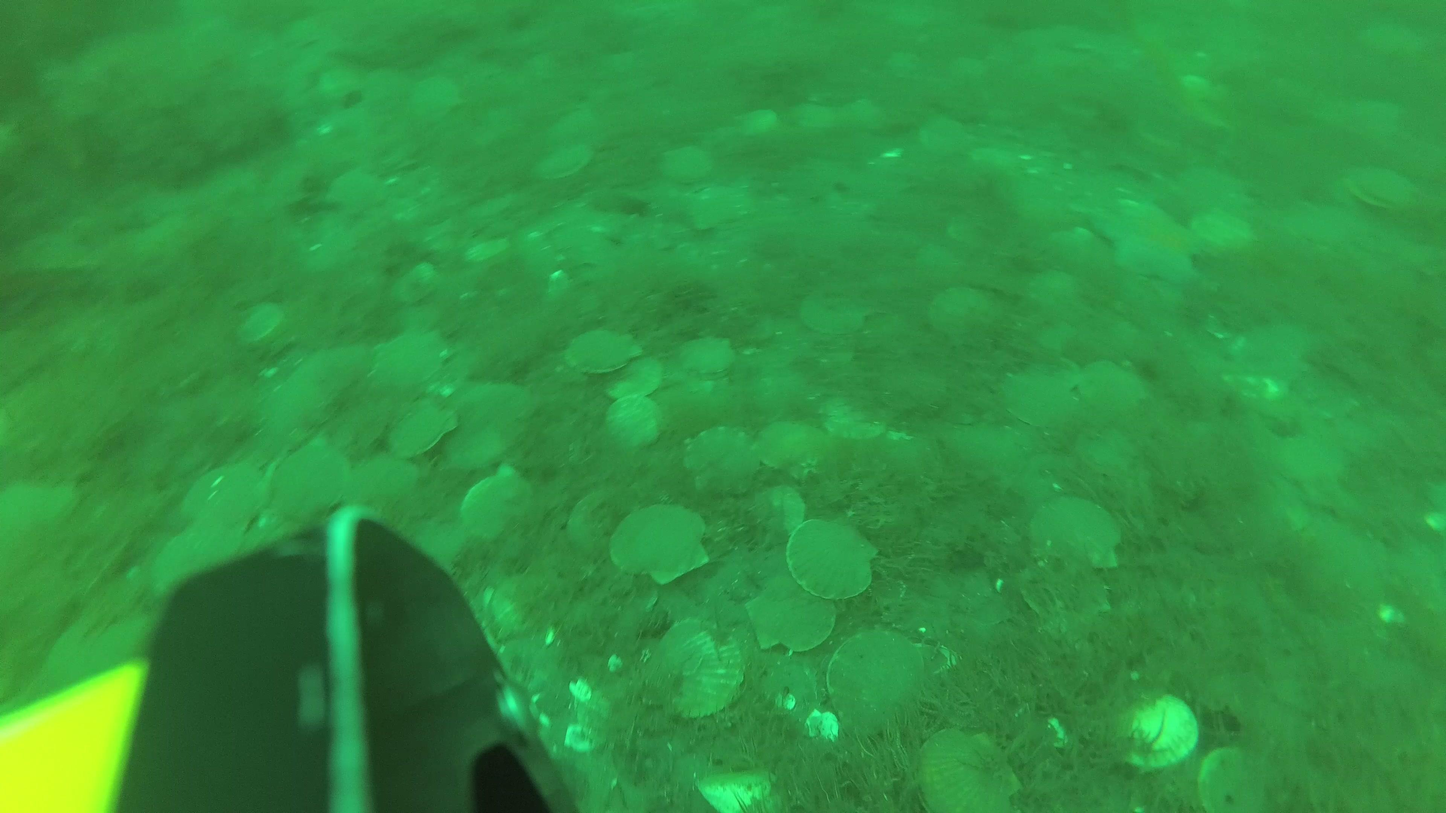holothurian: (1089, 195, 1200, 285)
scallop: (827, 626, 932, 740), (641, 615, 750, 723), (909, 724, 1026, 813), (786, 507, 879, 604), (609, 501, 714, 585), (1025, 493, 1124, 578), (1113, 682, 1203, 773), (741, 574, 839, 653), (270, 440, 352, 528), (455, 467, 539, 551), (148, 525, 240, 600), (178, 462, 276, 530), (679, 425, 764, 498), (367, 328, 458, 394), (1001, 359, 1083, 432), (342, 449, 419, 518), (1274, 430, 1351, 498), (383, 401, 463, 466), (924, 280, 1003, 340), (1074, 356, 1152, 416), (561, 326, 649, 379), (1346, 159, 1426, 216), (755, 419, 833, 477), (564, 485, 628, 553), (819, 388, 894, 444), (796, 286, 871, 339), (604, 391, 667, 454), (1073, 425, 1139, 479), (1197, 745, 1249, 813), (324, 166, 392, 217), (1188, 208, 1261, 255), (599, 352, 668, 401), (692, 184, 760, 233), (914, 110, 972, 165), (408, 72, 466, 125), (529, 142, 597, 185), (780, 154, 838, 204), (677, 334, 740, 380), (758, 482, 809, 537), (656, 143, 720, 185), (390, 257, 442, 308), (233, 301, 290, 347), (792, 100, 841, 134), (734, 107, 780, 140), (845, 99, 886, 133)
